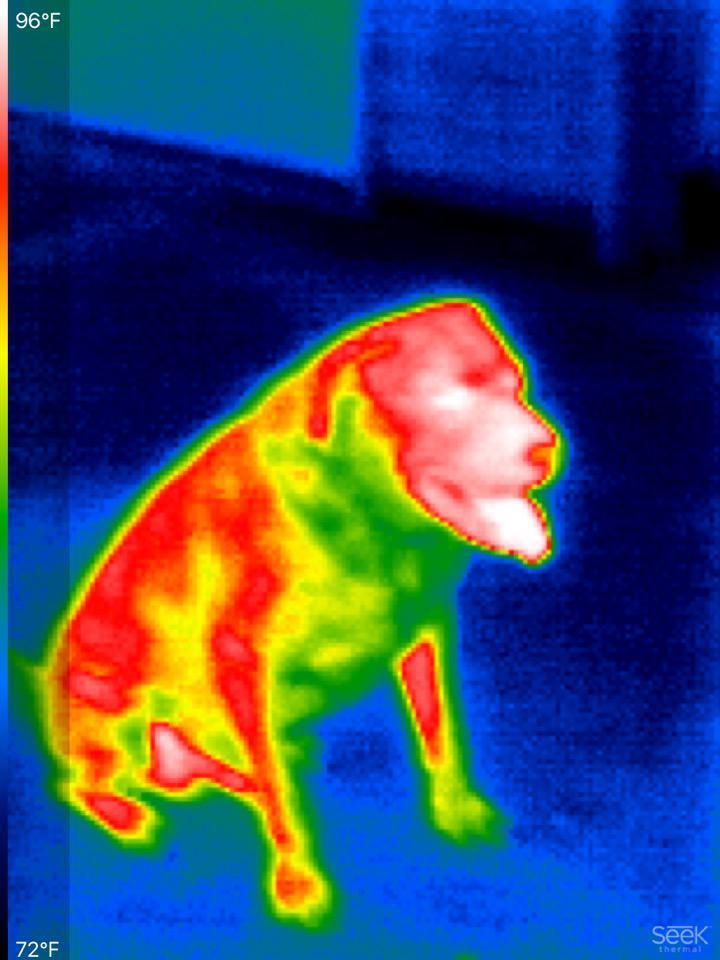dog: (15, 274, 565, 921)
